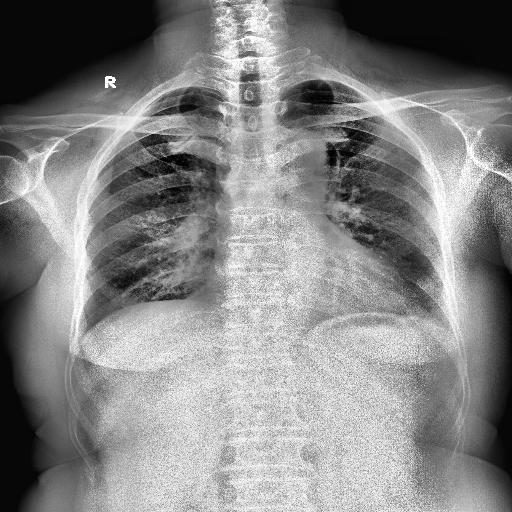0- Aortic enlargement: (260, 128, 330, 198), (257, 124, 329, 183), (275, 128, 329, 186)
3- Cardiomegaly: (206, 252, 422, 315), (206, 262, 408, 324), (206, 261, 416, 318)
